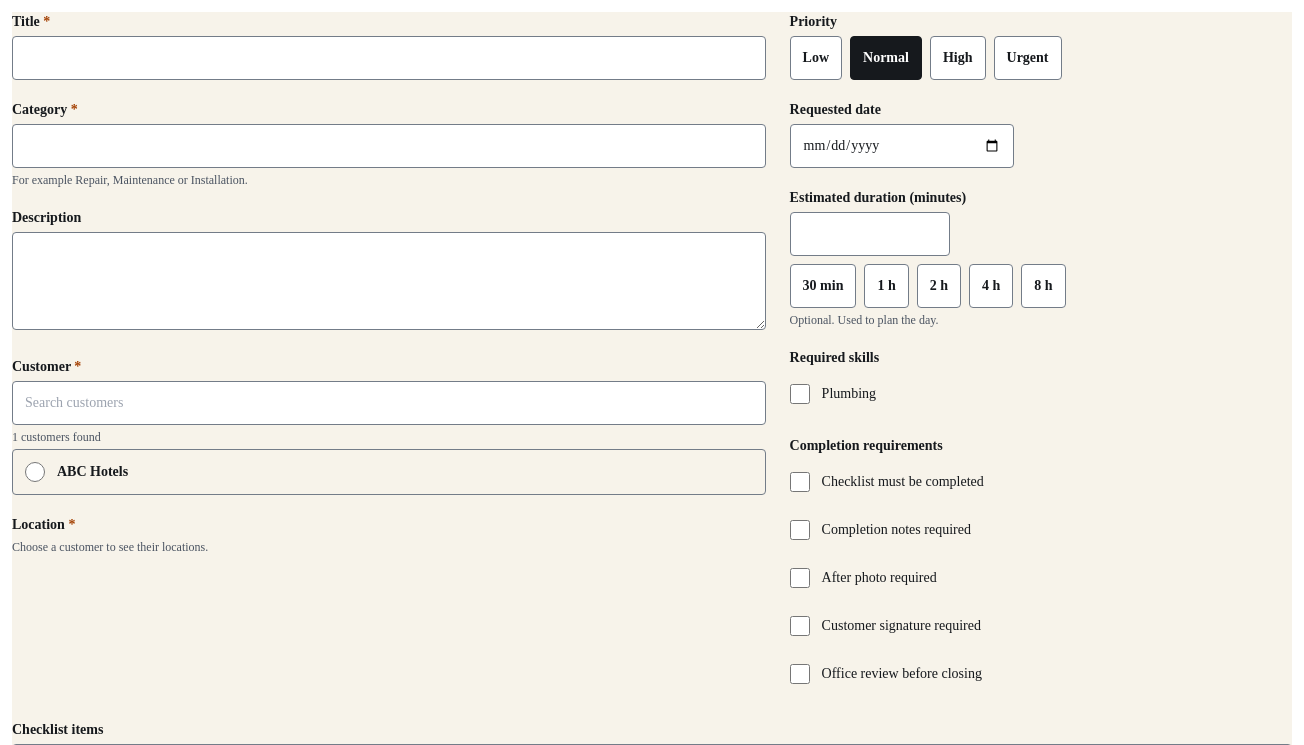
Test case: a client without a location never dead-ends Create Job (afcfd60a, e6c69ccf) › without permission to edit clients there is no add button, and the message says who can
Click the radio button labelled "ABC Hotels".
click(35, 472)  # box [25, 462, 45, 482]
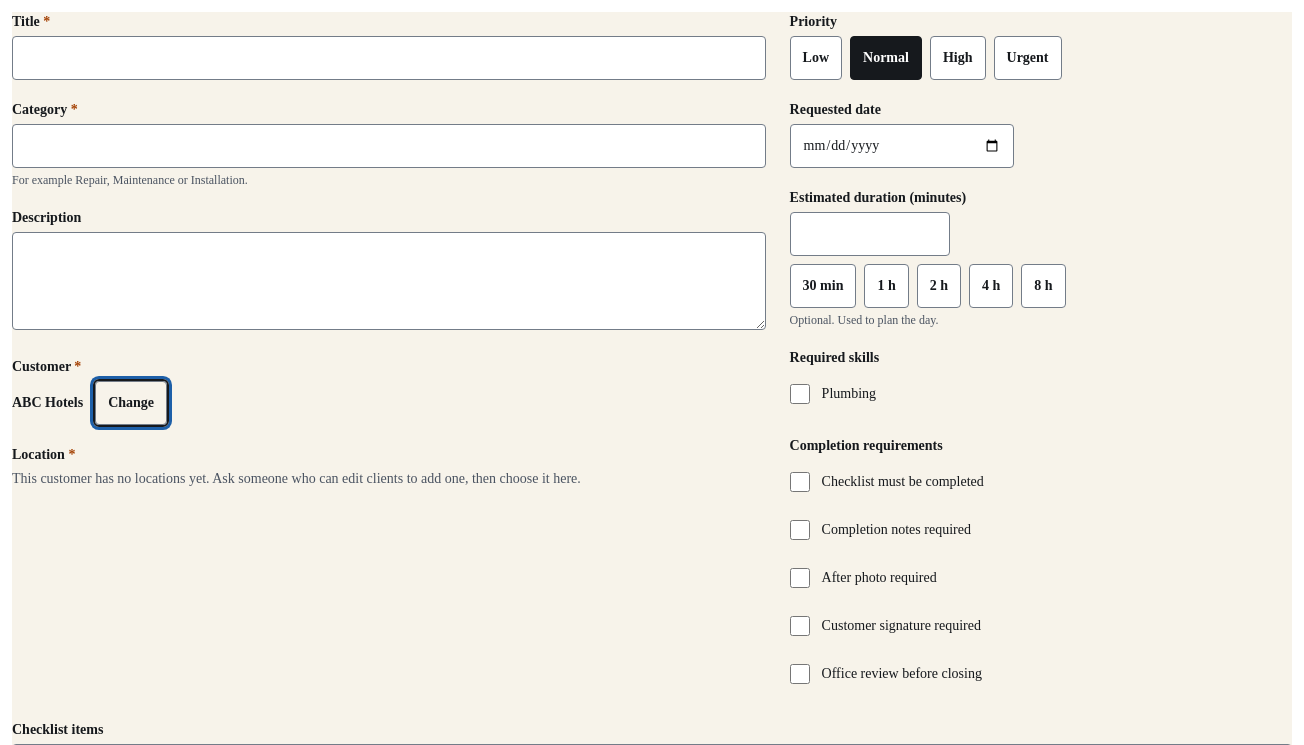
Expected: the text "Ask someone who can edit clients" is shown, [12, 471, 581, 486]
